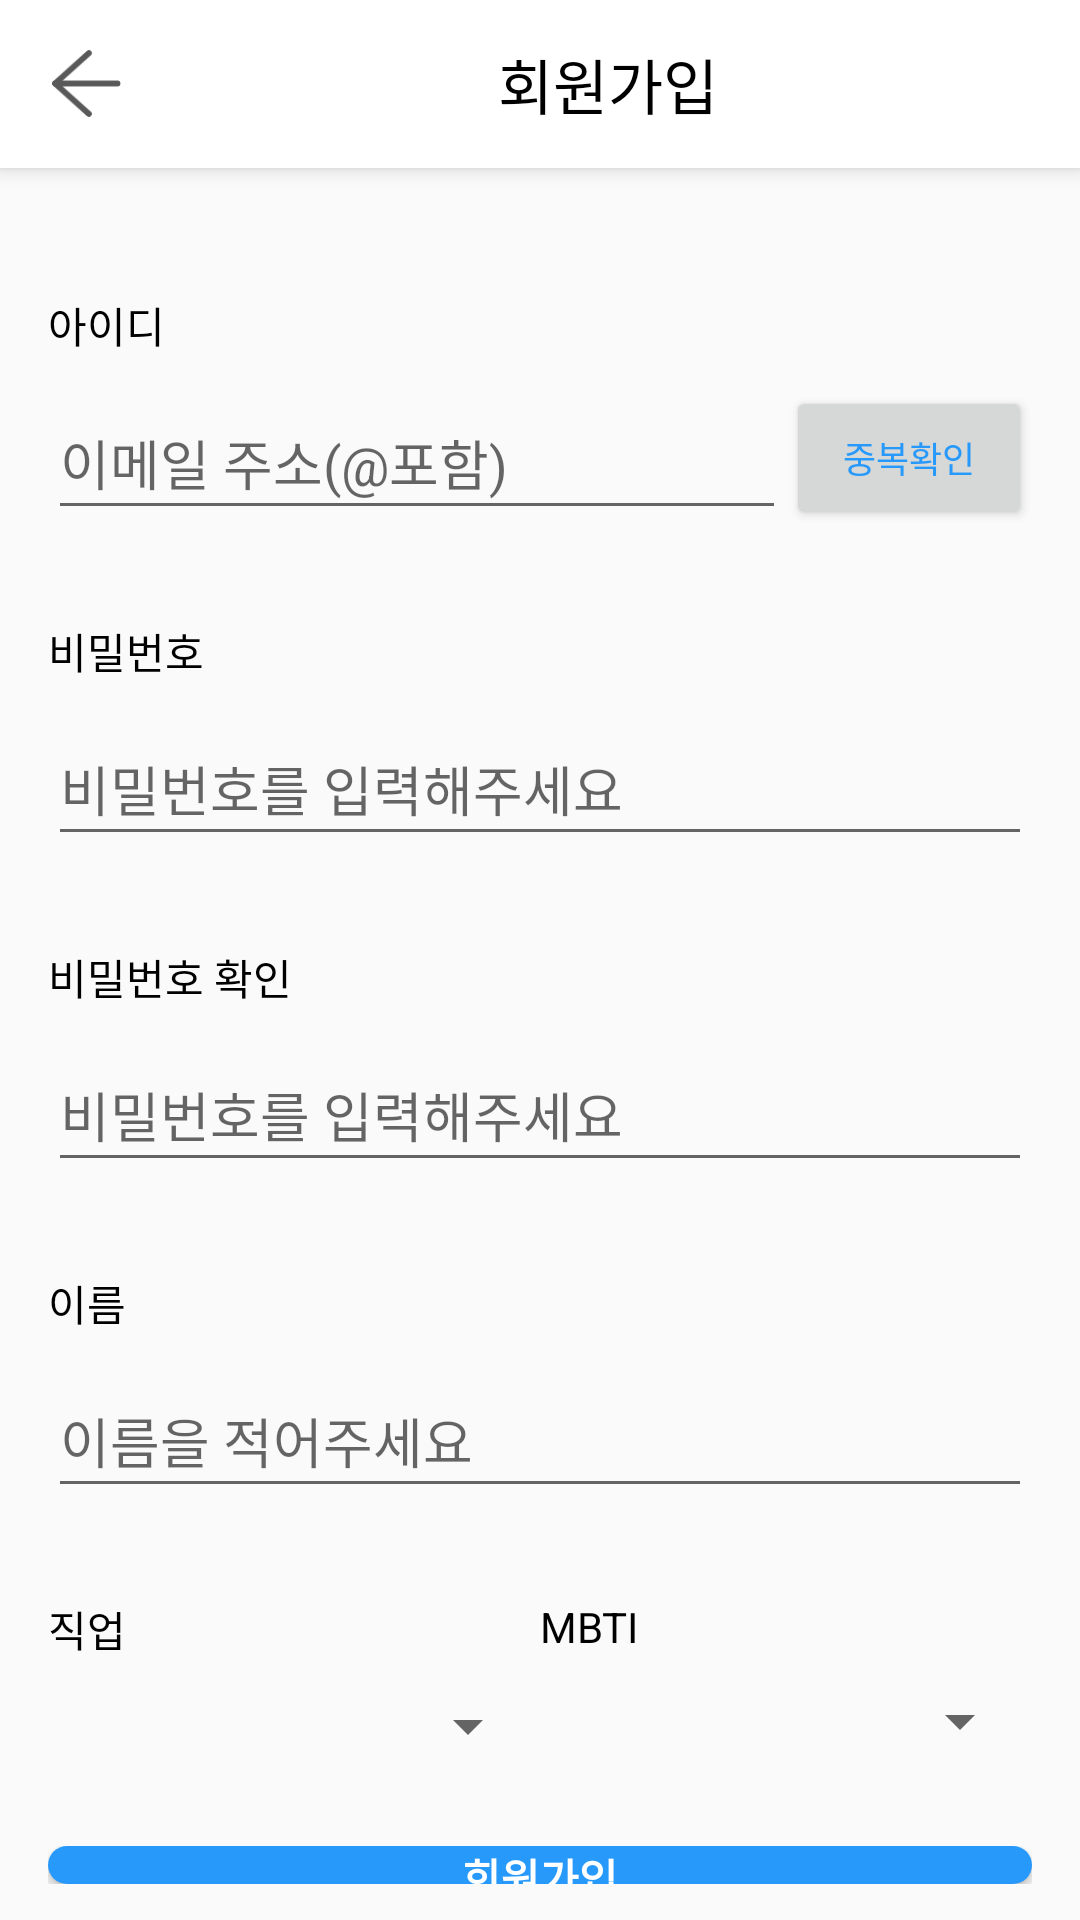

Where to tap for icons on this 1080 x 1920 app screen, as point (x, y):
arrow: point (86, 83)
